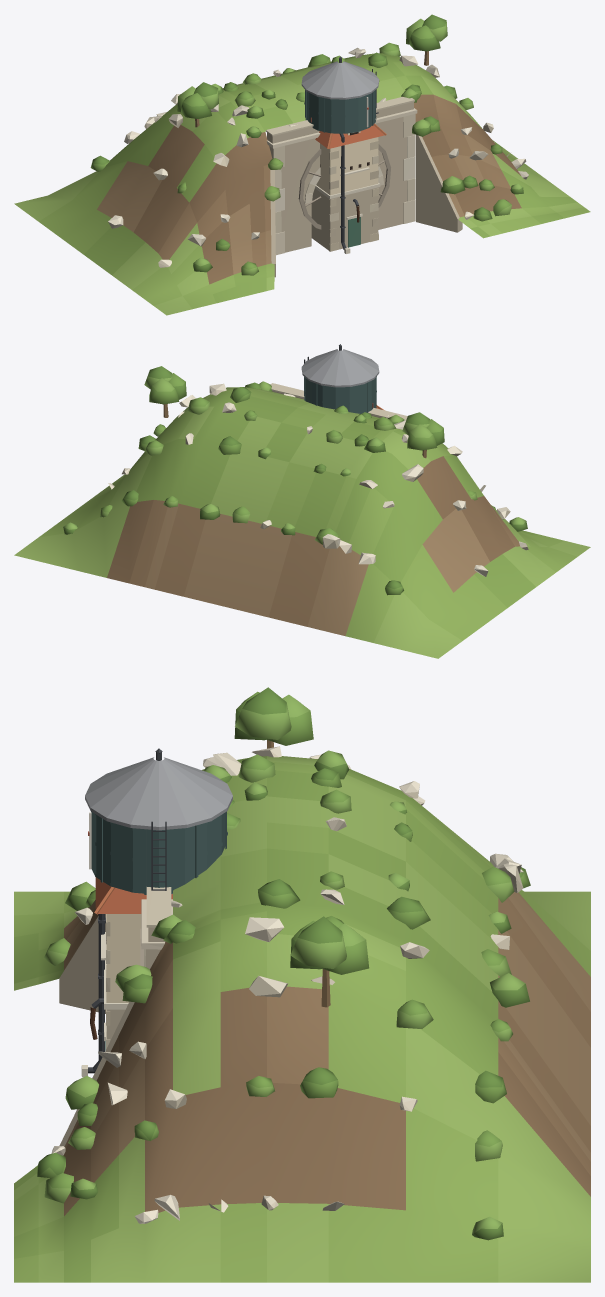
The model's file is aubrune-ouvrages.glb.
3 renders of one model, top to bottom at view 1: azimuth 30°, elevation 25°; view 2: azimuth 150°, elevation 25°; view 3: azimuth 270°, elevation 25°, orthographic. The views are drawn at different scales.
Visible parts, largest first — view 1: tunnel-portal, dovecote, water-tower, mill-wheel; view 2: tunnel-portal, water-tower; view 3: tunnel-portal, water-tower, dovecote.
Boxes of the visible parts, <box> form: tunnel-portal: <box>14,14,590,315</box>; dovecote: <box>311,123,386,251</box>; water-tower: <box>301,56,379,253</box>; mill-wheel: <box>298,144,390,229</box>; tunnel-portal: <box>14,366,590,658</box>; water-tower: <box>301,344,379,413</box>; tunnel-portal: <box>14,687,590,1282</box>; water-tower: <box>81,748,232,1077</box>; dovecote: <box>94,877,172,1050</box>.
Bounding box in the file's own units: 30 × 12.12 × 18.7.
